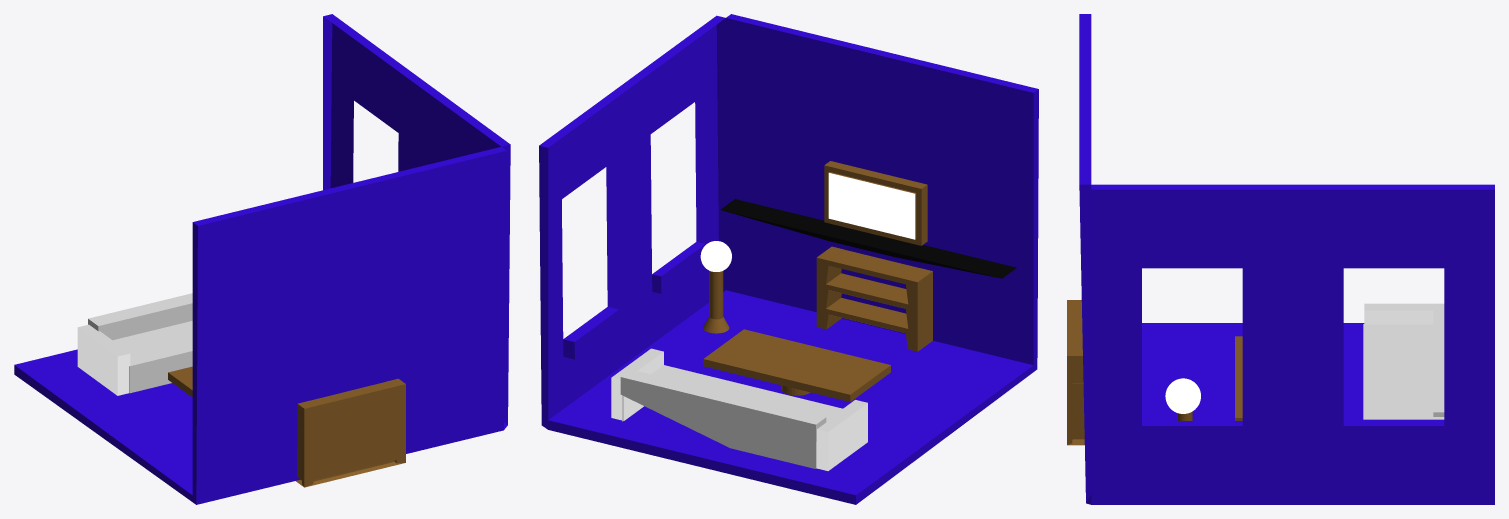
Rendered from room.glb.
3 renders of one model, left to right at view 1: azimuth 30°, elevation 25°; view 2: azimuth 150°, elevation 25°; view 3: azimuth 270°, elevation 25°, orthographic. The views are drawn at different scales.
Parts seen in each view (by area): view 1: Plane, Plane.010, Plane.004, Plane.006; view 2: Plane, Plane.004, Plane.010, Plane.005, Plane.002, Plane.003, Plane.006, Plane.001, Plane.007, Cone, Sphere; view 3: Plane, Plane.004, Plane.010, Plane.006, Sphere, Plane.005.
Part boxes in pixels (left/top/right/bottom): Plane: left=14, top=14, right=510, bottom=504; Plane.010: left=296, top=378, right=405, bottom=487; Plane.004: left=88, top=293, right=192, bottom=393; Plane.006: left=77, top=324, right=130, bottom=395; Plane: left=539, top=14, right=1038, bottom=504; Plane.004: left=620, top=365, right=842, bottom=468; Plane.010: left=816, top=246, right=932, bottom=351; Plane.005: left=703, top=329, right=890, bottom=401; Plane.002: left=720, top=199, right=1016, bottom=278; Plane.003: left=828, top=172, right=916, bottom=239; Plane.006: left=816, top=400, right=867, bottom=470; Plane.001: left=824, top=161, right=927, bottom=245; Plane.007: left=611, top=348, right=663, bottom=420; Cone: left=703, top=271, right=729, bottom=333; Sphere: left=700, top=241, right=731, bottom=271; Plane: left=1079, top=14, right=1494, bottom=504; Plane.004: left=1363, top=304, right=1444, bottom=416; Plane.010: left=1067, top=300, right=1084, bottom=445; Plane.006: left=1364, top=303, right=1443, bottom=324; Sphere: left=1165, top=378, right=1200, bottom=413; Plane.005: left=1235, top=336, right=1242, bottom=420.
Bounding box in the file's own units: 23.26 × 19.77 × 23.95.
